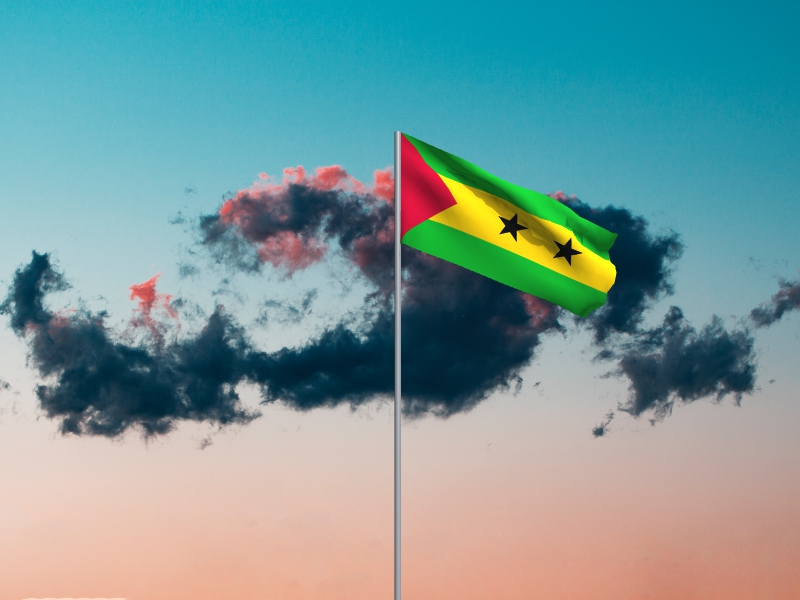st: (402, 133, 619, 321)
